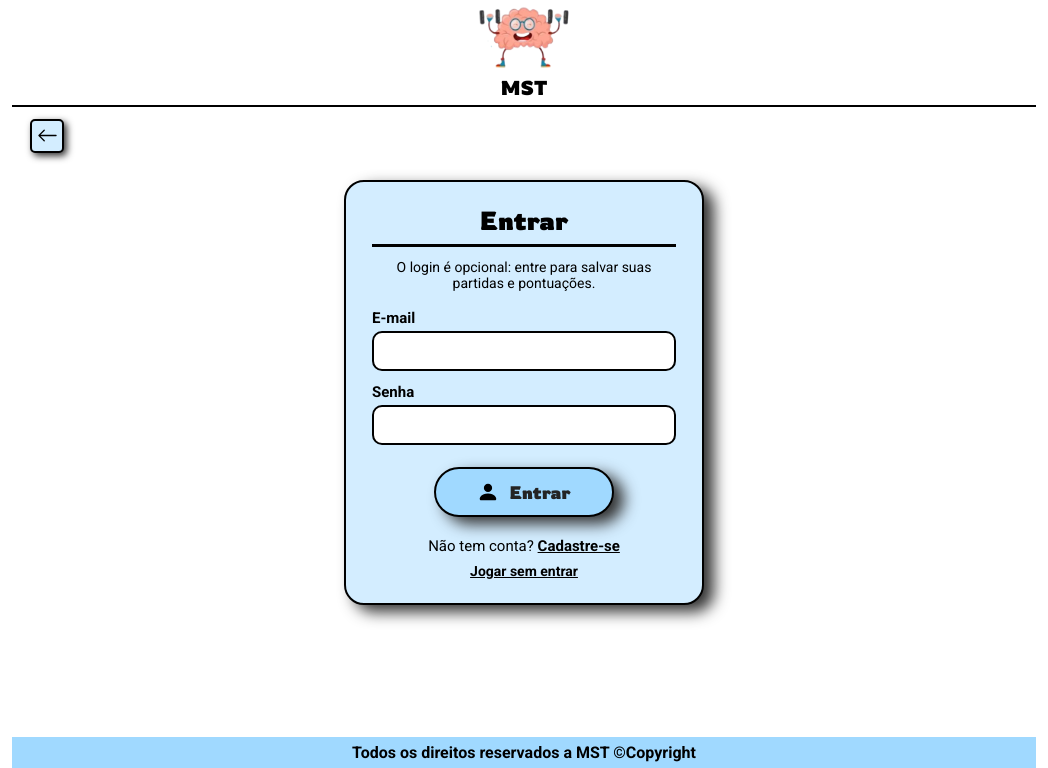
Test: telas de Entrar e Cadastro › credenciais inválidas exibem o aviso
Type "maria@mst.com" into the field labelled "E-mail" at (524, 351), box [372,331,676,371]
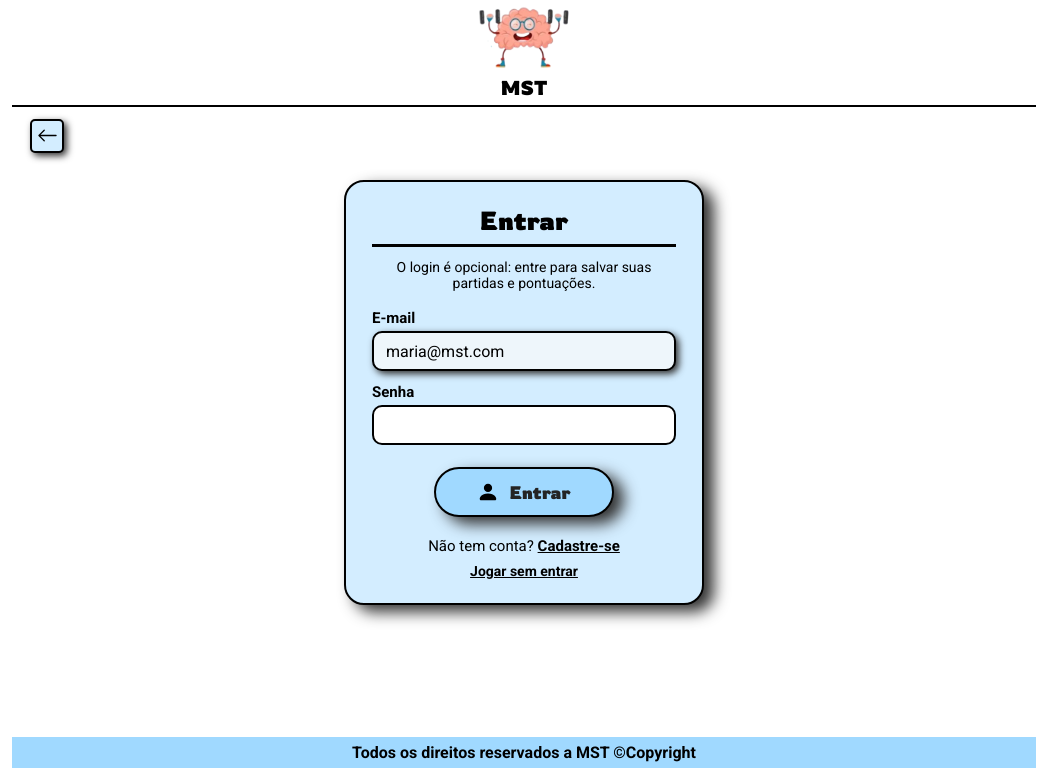
Type "errada" into the password field labelled "Senha" at (524, 425), box [372,405,676,445]
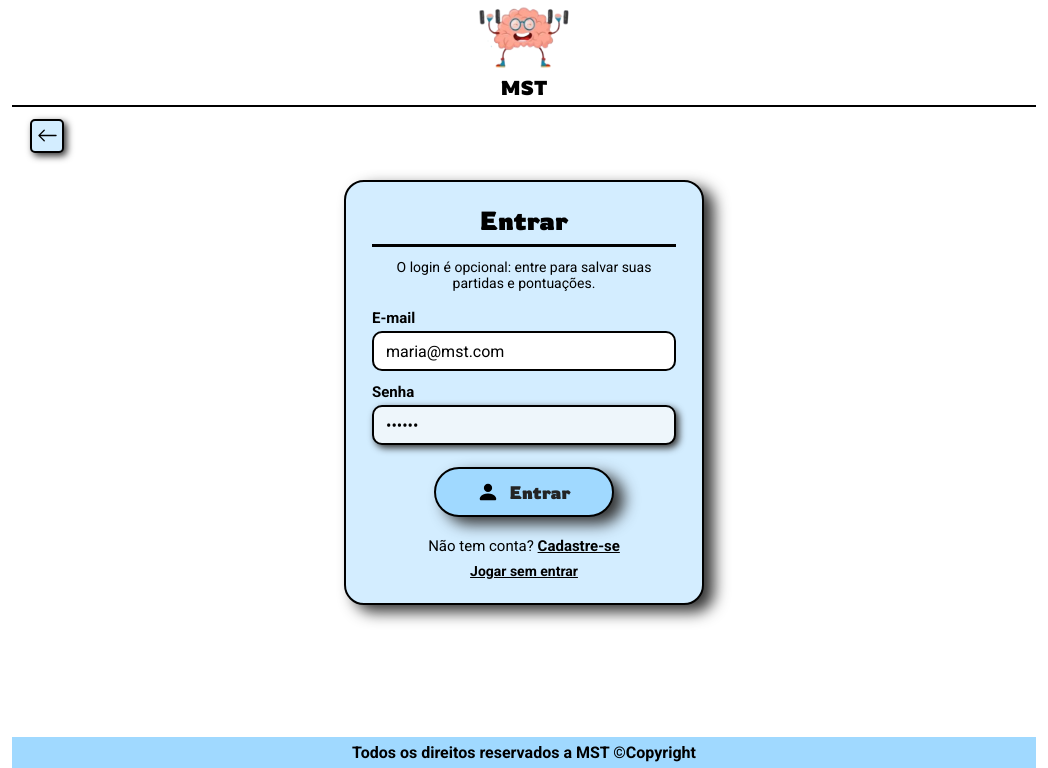
Click the button "Entrar" at (524, 492), box [434,467,614,517]
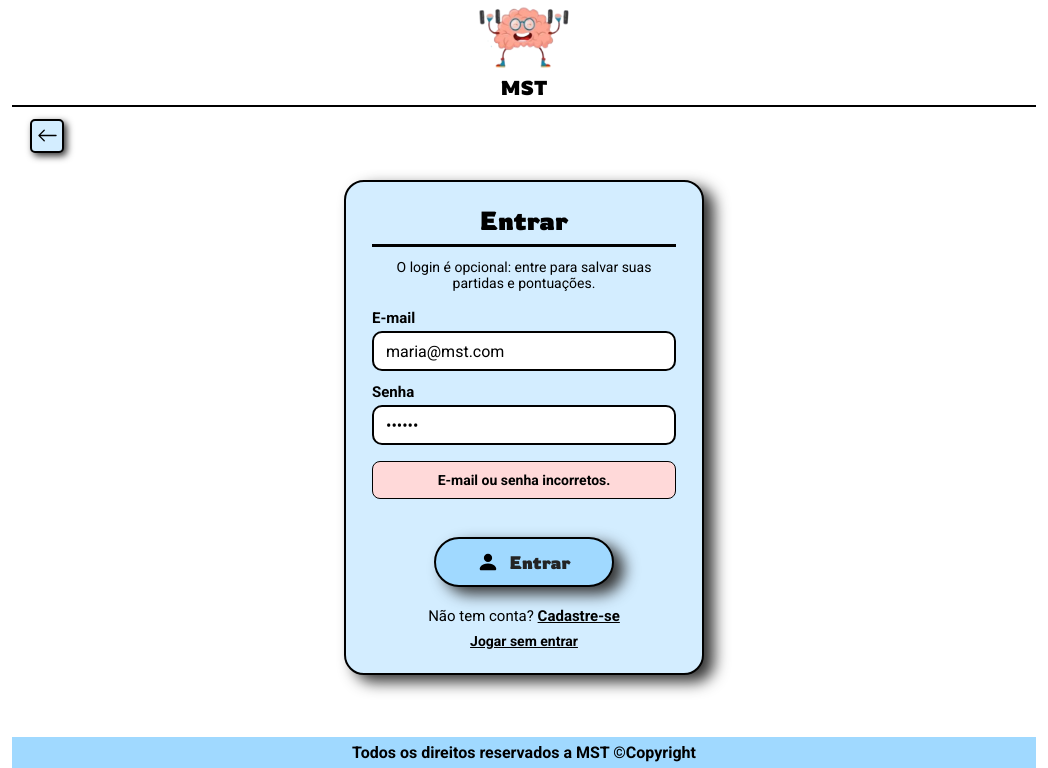
Now the message reads "E-mail ou senha incorretos.", box [438,472,610,488]
